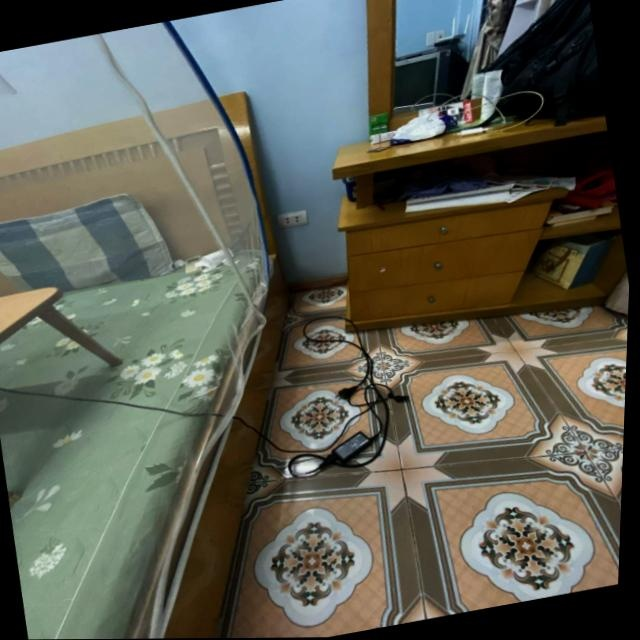outlet: (275, 208, 308, 229)
